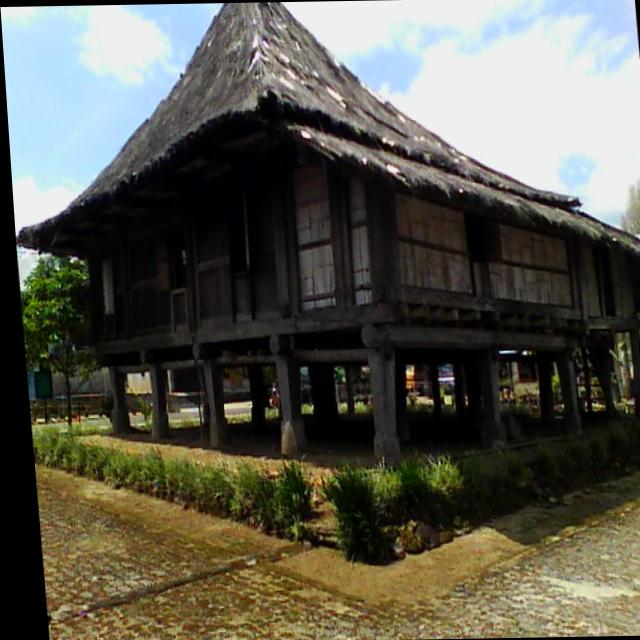Tembok Bangunan: (86, 144, 632, 352)
jendela: (224, 196, 247, 273)
